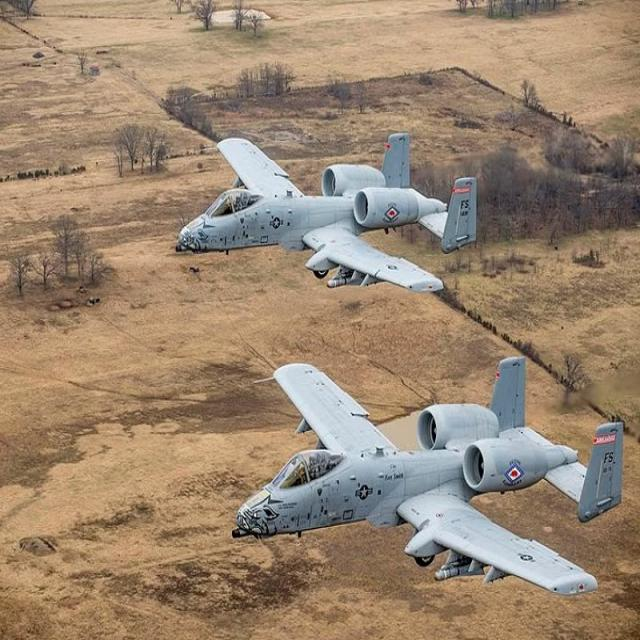A10: (208, 342, 640, 622), (154, 79, 524, 324)
